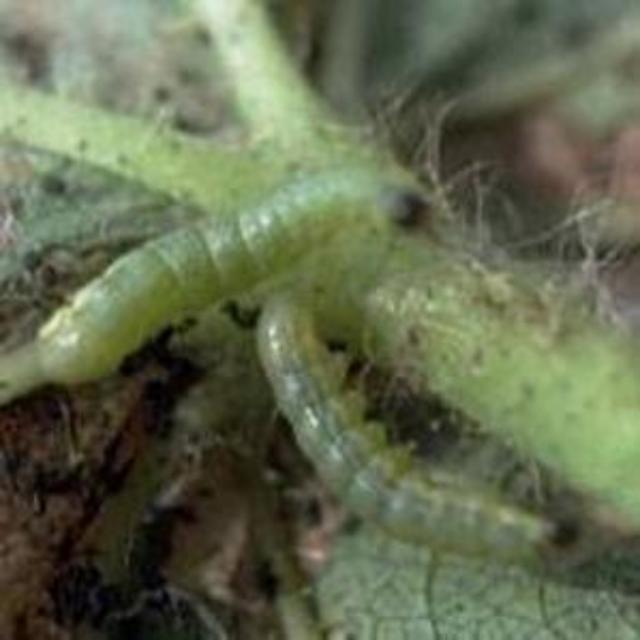Beet armyworm: (18, 98, 434, 412), (240, 289, 600, 609)
